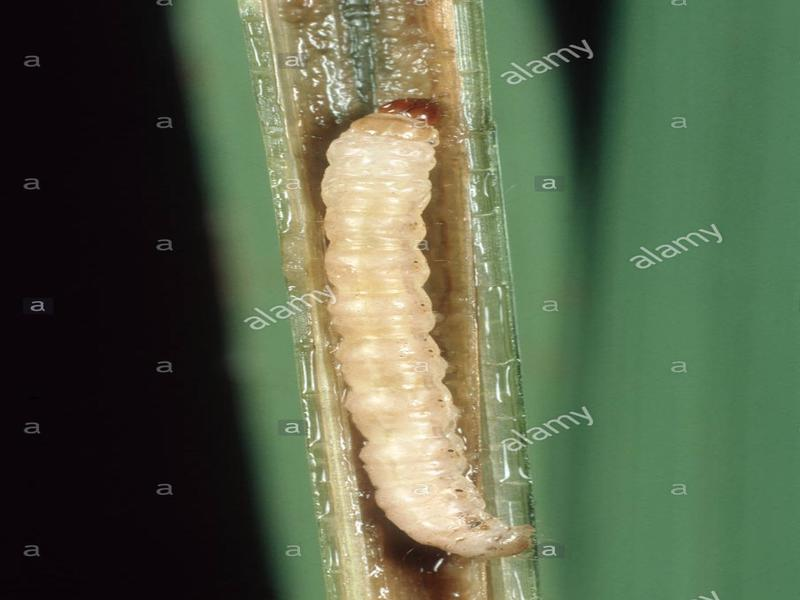Rice_skipper: (303, 94, 544, 563)
